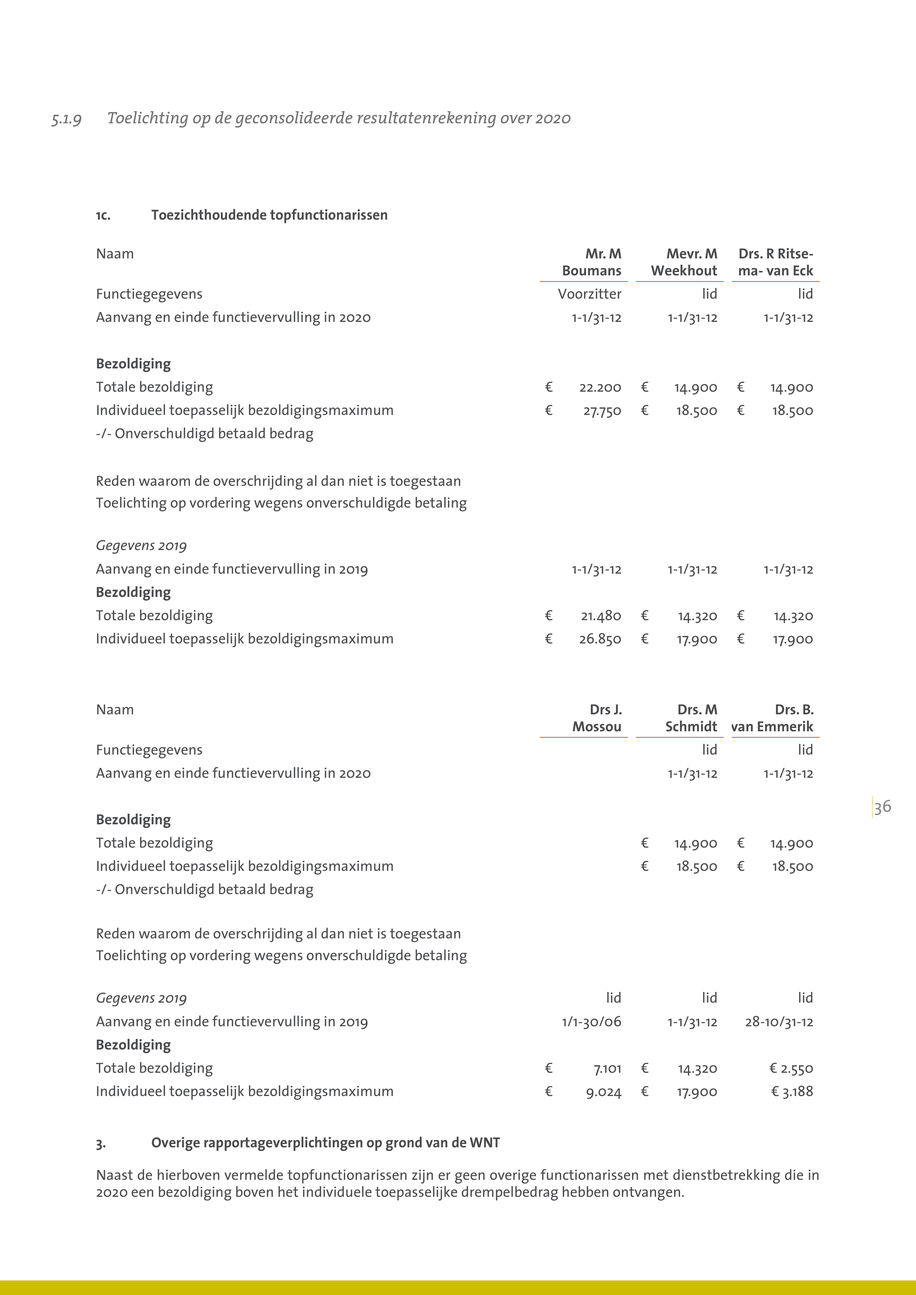coulmn: (81, 686, 487, 1108), (88, 229, 475, 665), (531, 684, 637, 1111), (530, 232, 632, 664), (727, 683, 822, 1114), (637, 225, 730, 654), (732, 230, 824, 660), (638, 680, 728, 1108)
